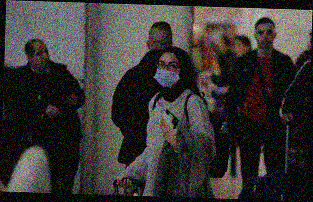with_mask: (152, 59, 181, 88)
without_mask: (32, 47, 51, 69), (257, 27, 275, 49)
